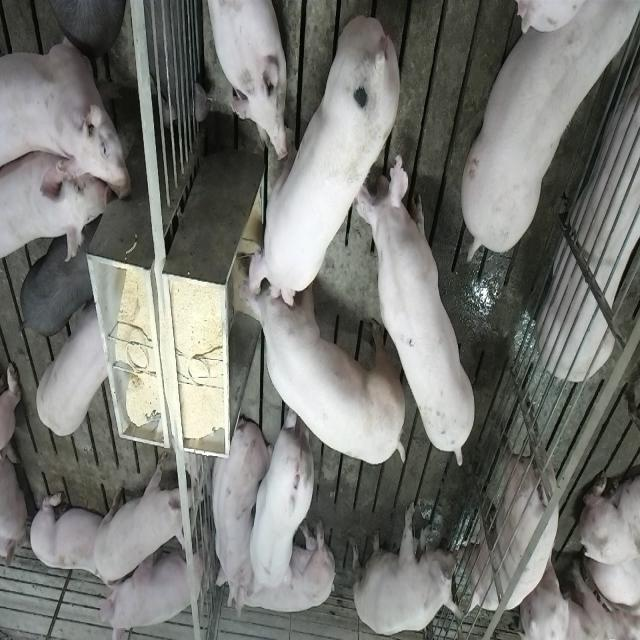Feeding: (246, 14, 408, 308), (230, 258, 400, 470)
Lateral_lying: (224, 520, 336, 624)
Sitting: (353, 499, 460, 637), (97, 540, 203, 638)
Standing: (456, 5, 635, 265), (363, 152, 479, 471), (2, 30, 135, 205), (456, 408, 558, 613), (3, 147, 111, 265), (95, 448, 193, 578), (250, 400, 316, 592), (36, 300, 110, 436), (18, 230, 98, 339), (40, 0, 124, 50)
Sternal_lying: (540, 38, 640, 380), (204, 0, 288, 157), (26, 484, 124, 589)
